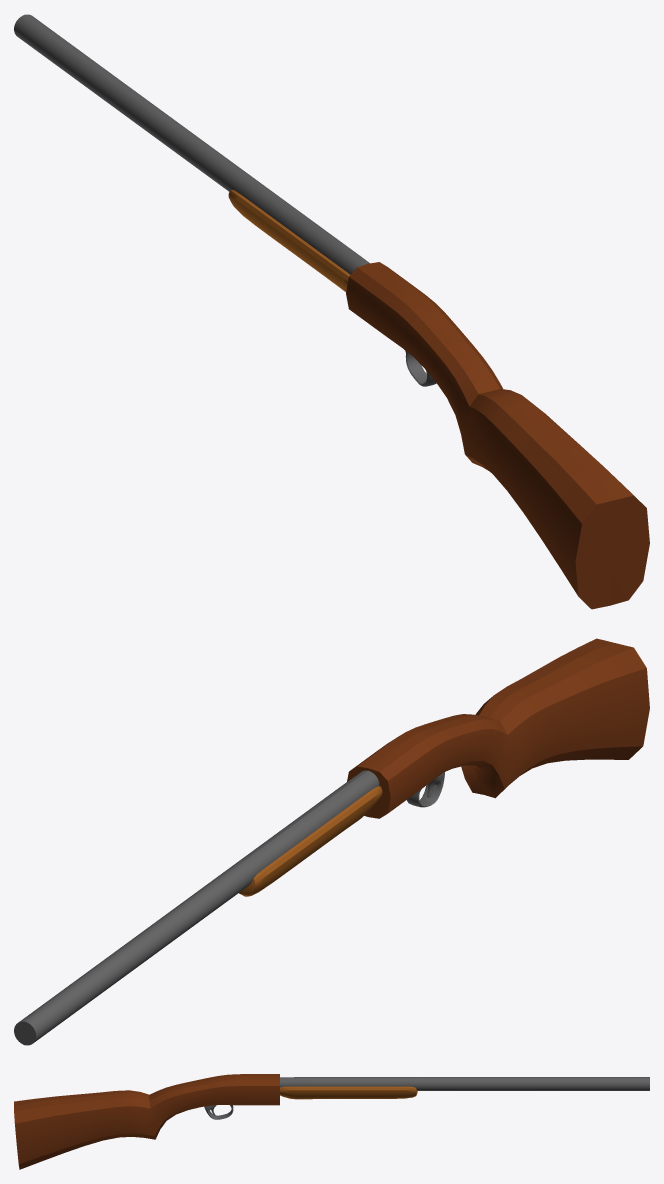
Rendered from Shotgun.fbx.
The picture shows the model from 3 angles, top to bottom: view 1: azimuth 30°, elevation 25°; view 2: azimuth 150°, elevation 25°; view 3: azimuth 270°, elevation 25°; orthographic projection. The views are drawn at different scales.
Visible parts, largest first — view 1: Stock, Barrel, pump; view 2: Stock, Barrel, pump, Trigger; view 3: Stock, Barrel, pump, Trigger.
Boxes of the visible parts, x1,y1,x2,y2 form: Stock: [346, 262, 649, 609]; Barrel: [14, 14, 369, 274]; pump: [228, 190, 349, 291]; Stock: [347, 638, 649, 818]; Barrel: [14, 770, 379, 1045]; pump: [239, 786, 382, 896]; Trigger: [407, 772, 444, 807]; Stock: [14, 1074, 279, 1169]; Barrel: [280, 1077, 649, 1090]; pump: [280, 1086, 417, 1099]; Trigger: [204, 1105, 233, 1119].
Bounding box in the file's own units: 19.27 × 41.01 × 264.
